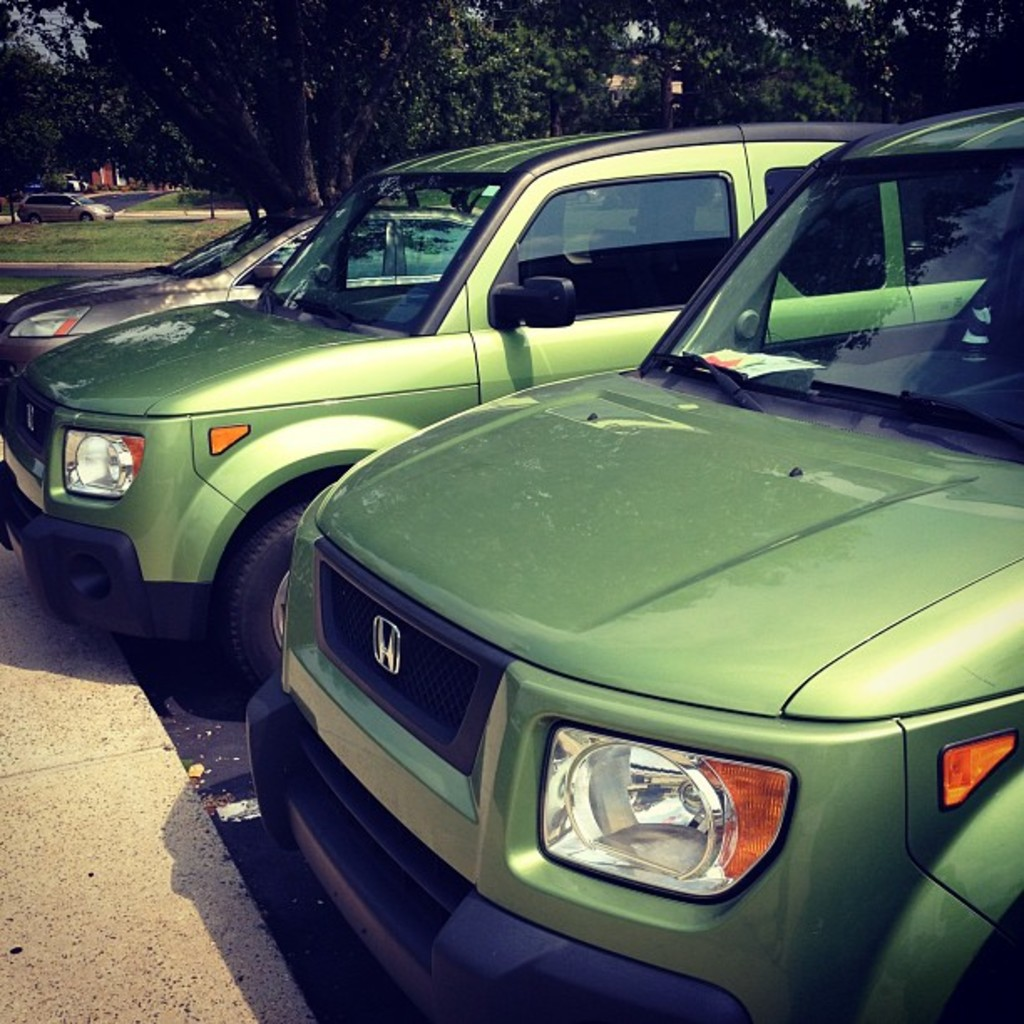Car: (245, 100, 1024, 1021), (0, 119, 991, 699), (1, 199, 588, 384)
